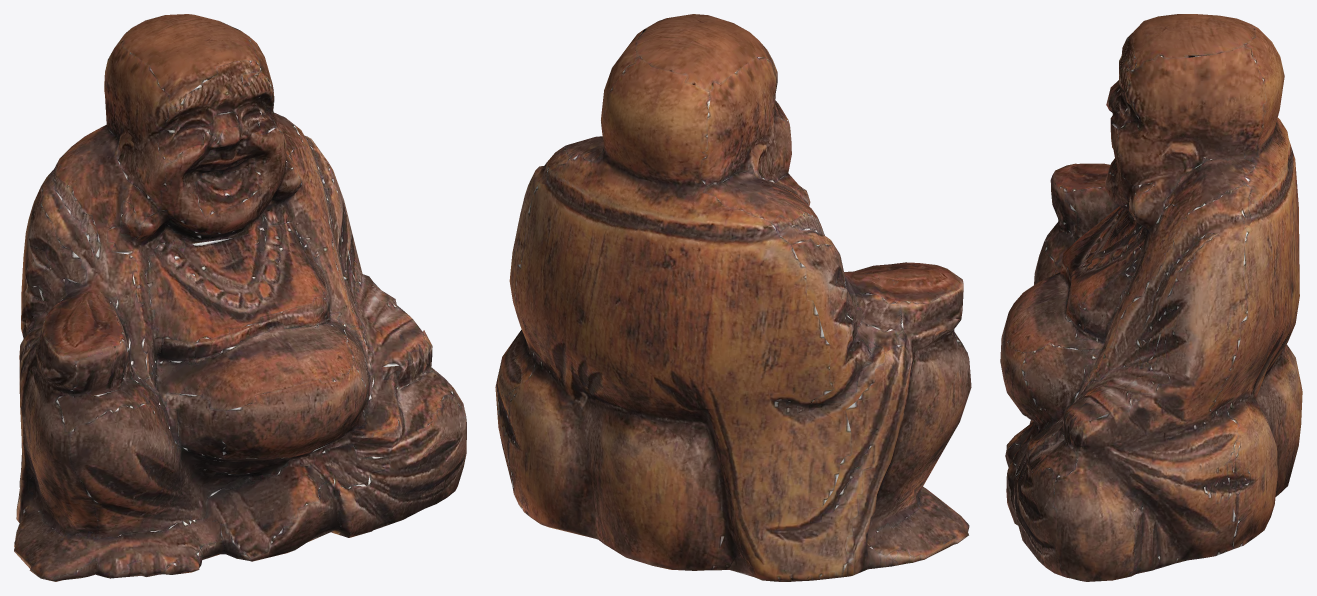
File: buddha_happy.glb
The picture shows the model from 3 angles, left to right: view 1: azimuth 30°, elevation 25°; view 2: azimuth 150°, elevation 25°; view 3: azimuth 270°, elevation 25°; orthographic projection. The views are drawn at different scales.
Parts seen in each view (by area): view 1: realscale; view 2: realscale; view 3: realscale.
Part boxes in pixels (x1,y1,x2,y2): realscale: (14,14,466,581); realscale: (495,14,971,581); realscale: (1000,14,1302,581).
Size of the model in its own units: 1.14 by 1.2 by 0.715.
1 material, 1 textured.
